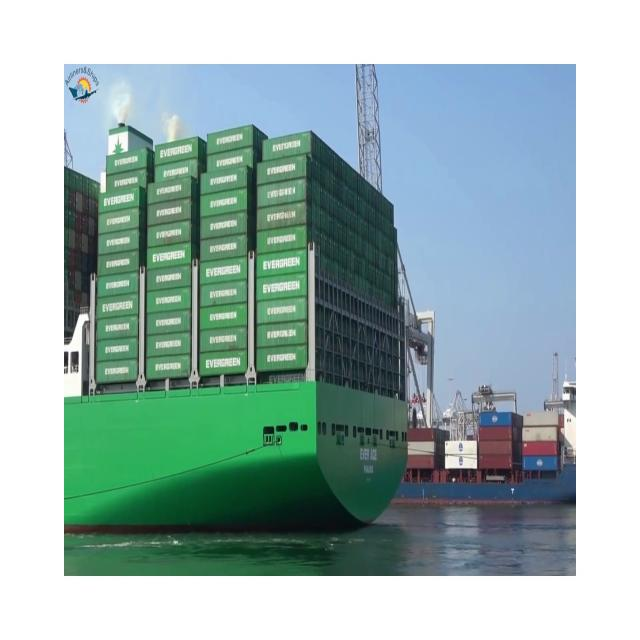OCR: (346, 440, 383, 483)
